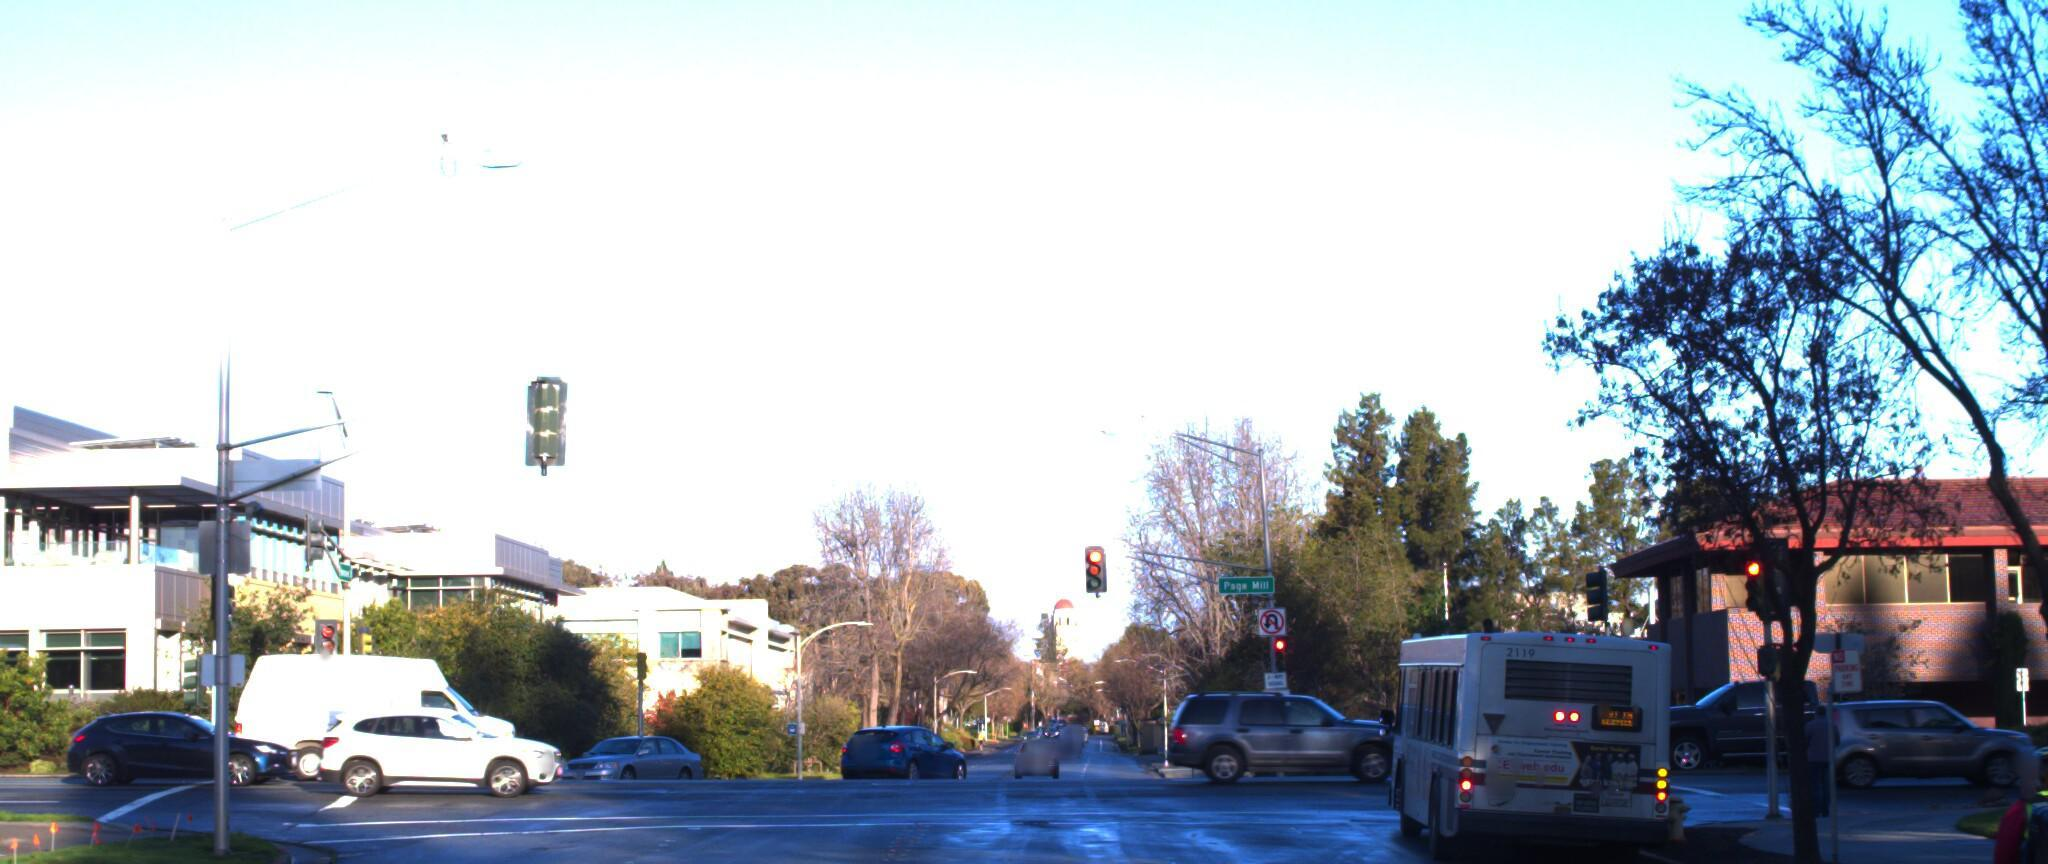bicycle: (1907, 718, 2048, 864)
bus: (1371, 590, 1681, 864)
car: (219, 651, 521, 778), (1607, 666, 1924, 767), (1785, 700, 2048, 801), (1149, 685, 1408, 780), (300, 701, 562, 794), (56, 703, 300, 791), (822, 723, 976, 795), (549, 723, 722, 784), (2000, 683, 2048, 762)
